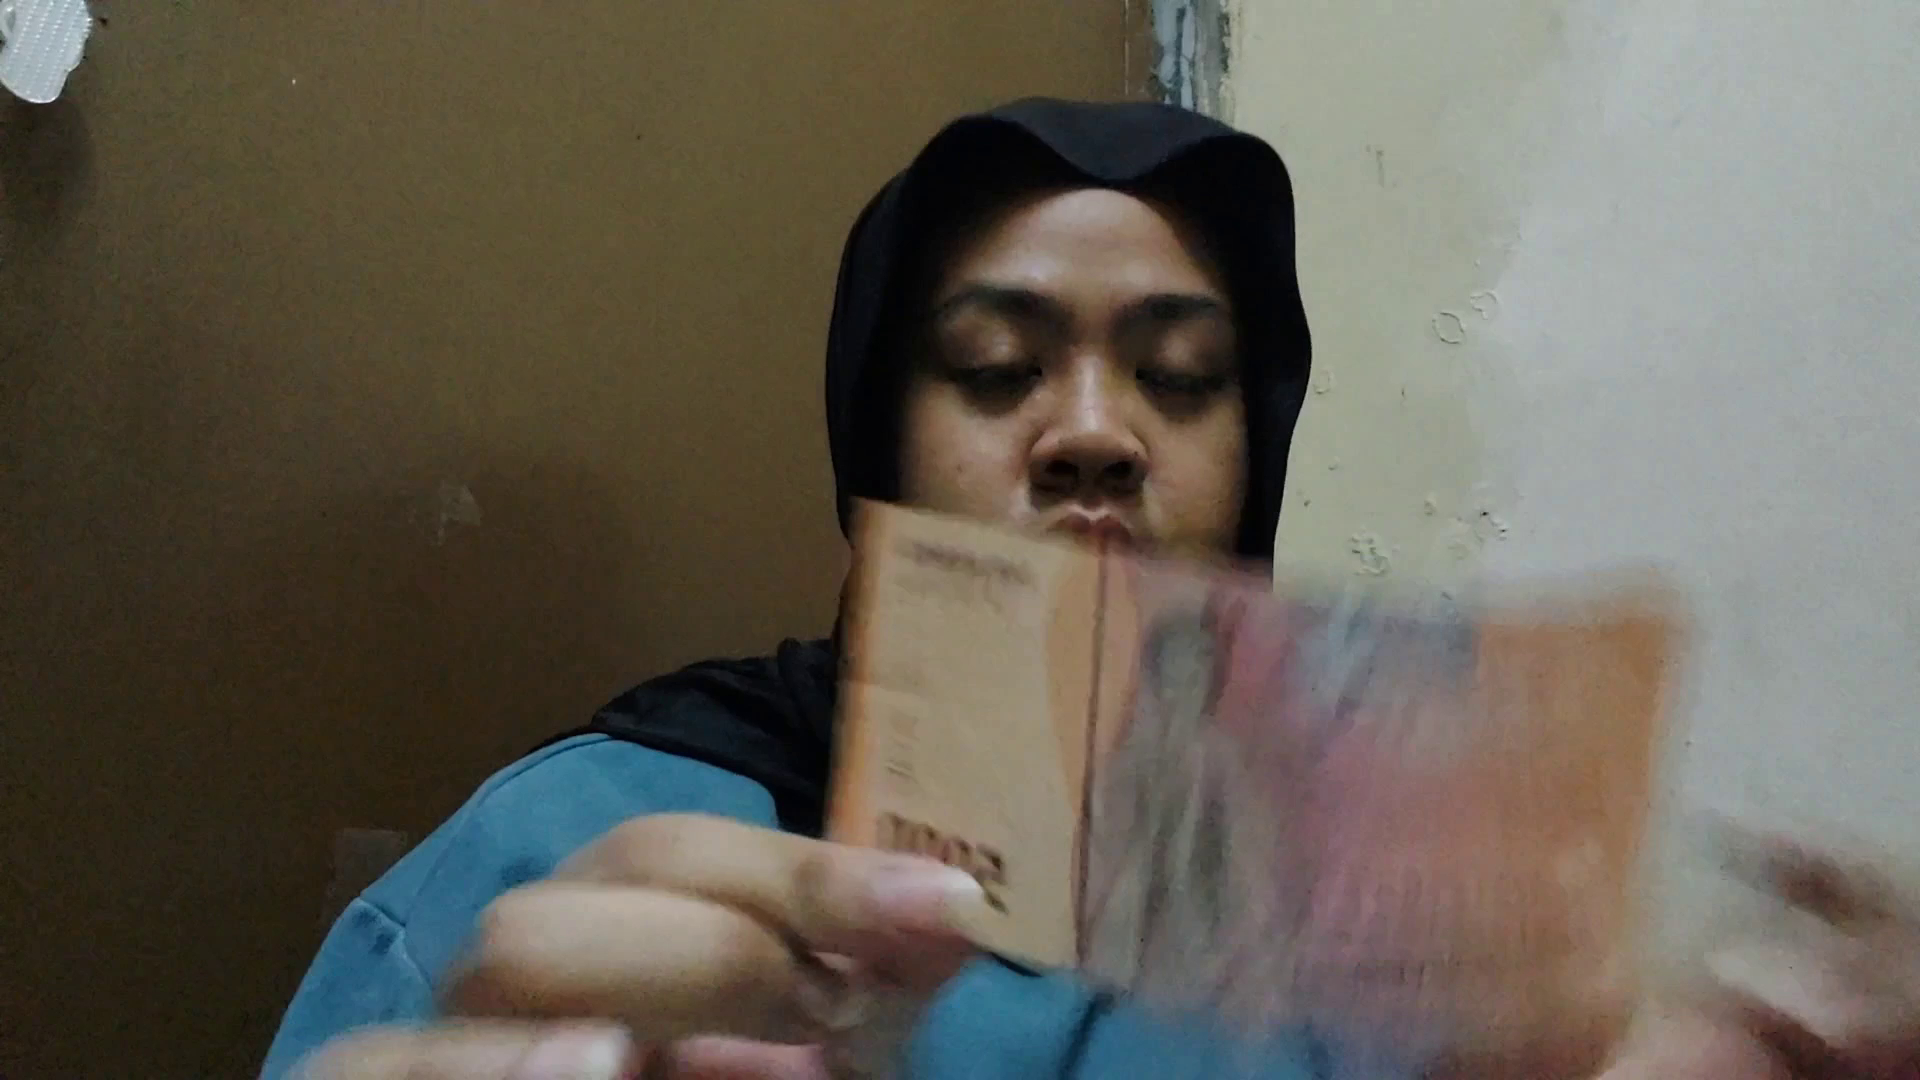5k: (843, 495, 1669, 1030)
